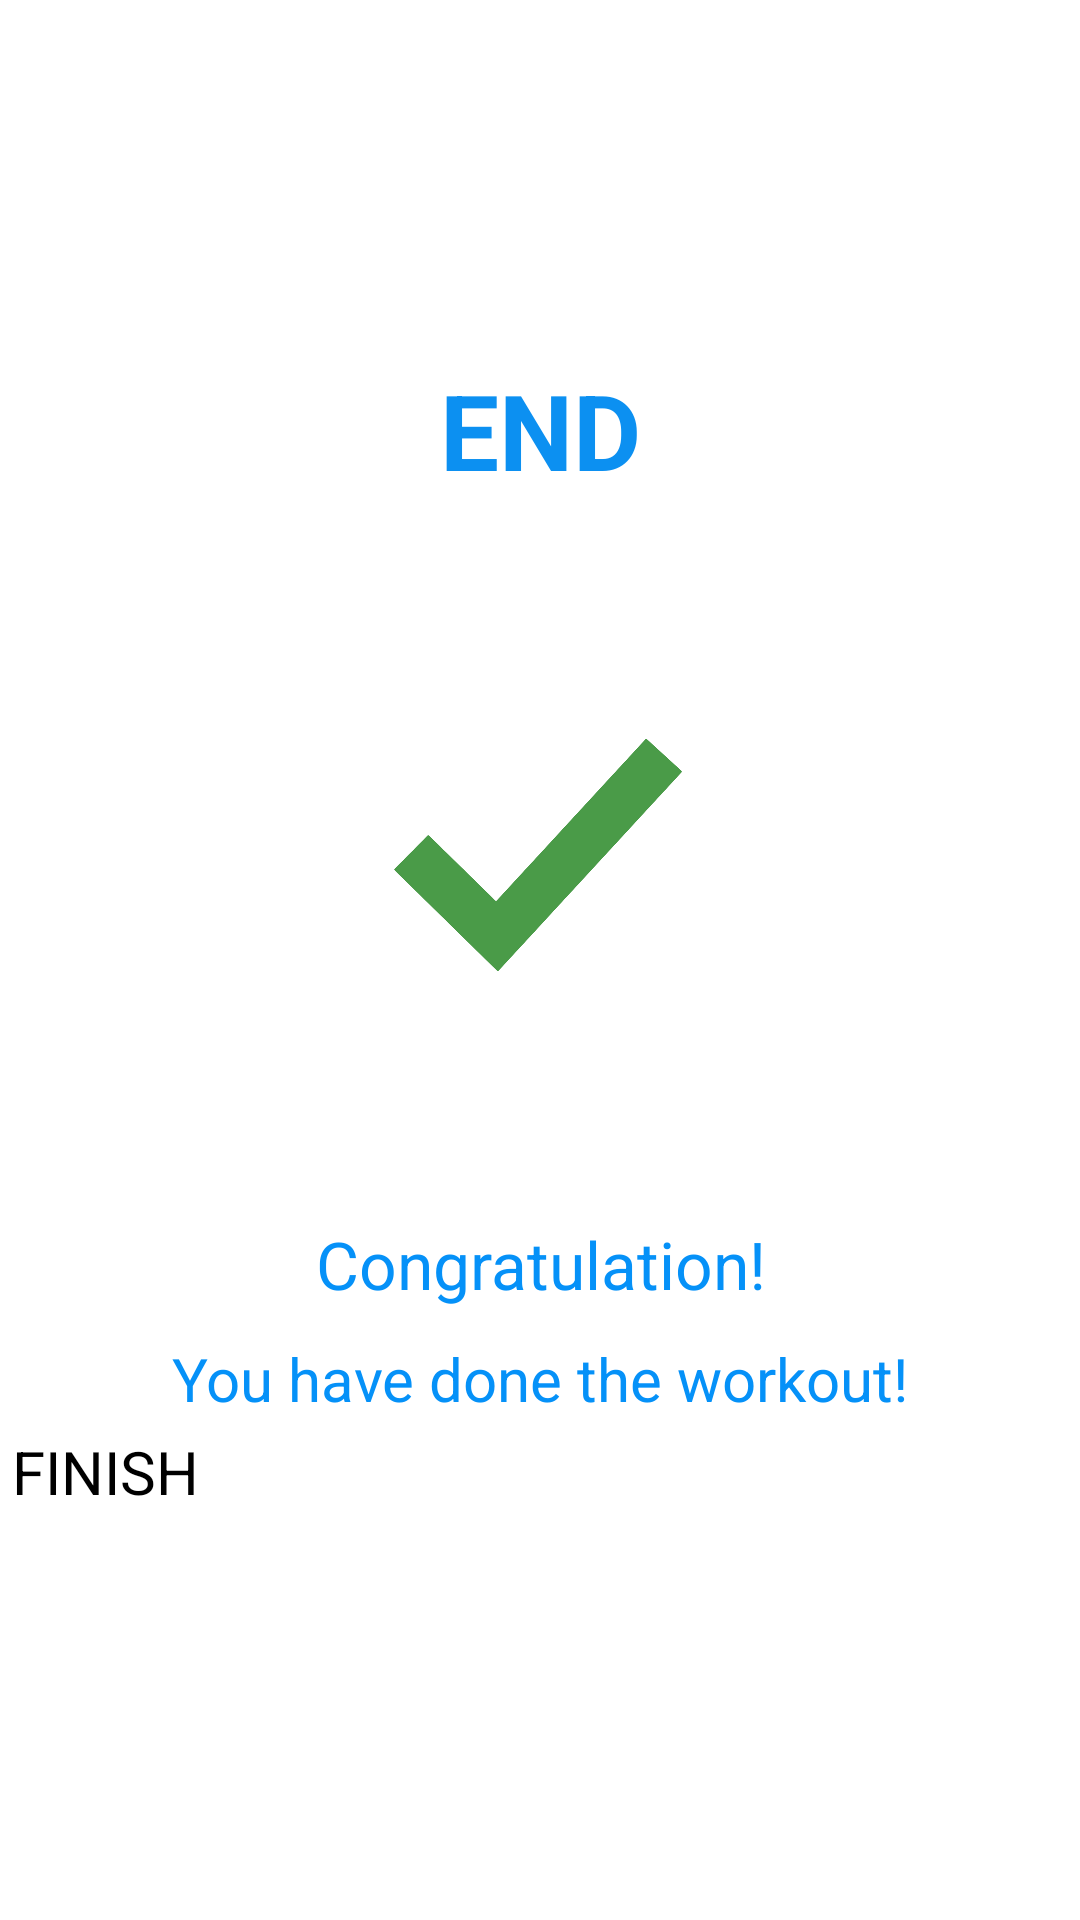

Where icons sit on this 1080×1920 app screen, as (x1, y1, x2, y2):
done: (394, 739, 682, 971)
